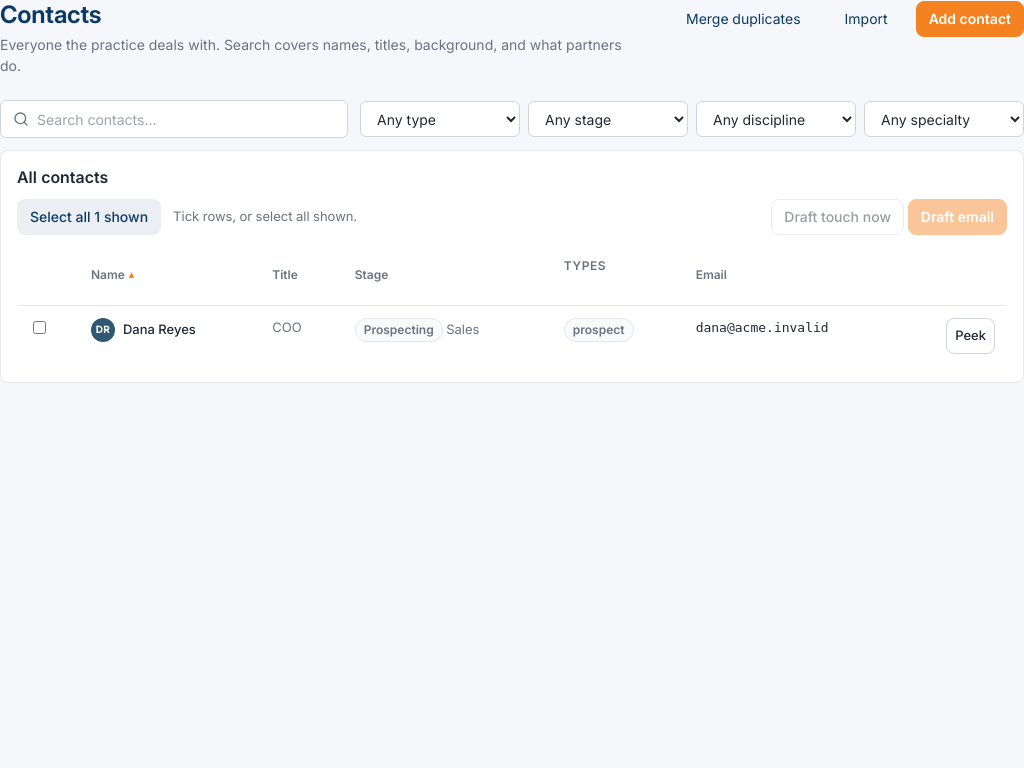
a row opens its record › leaves the checkbox and Peek doing what they did
The width and height of the screenshot is (1024, 768).
Click the checkbox named "Select Dana Reyes" at [40, 327], box [33,321,46,334]
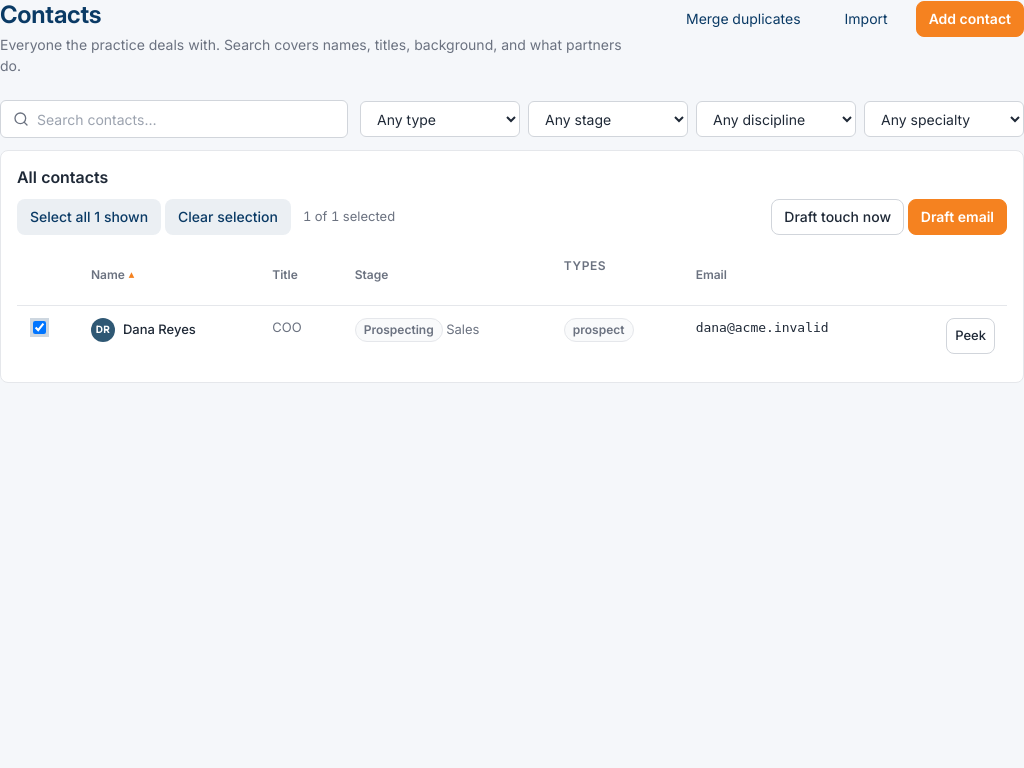
Now the checkbox named "Select Dana Reyes" is checked, box [33,321,46,334]
Click the button with aria-label "Peek at Dana Reyes" at [971, 336], box [946,318,995,354]
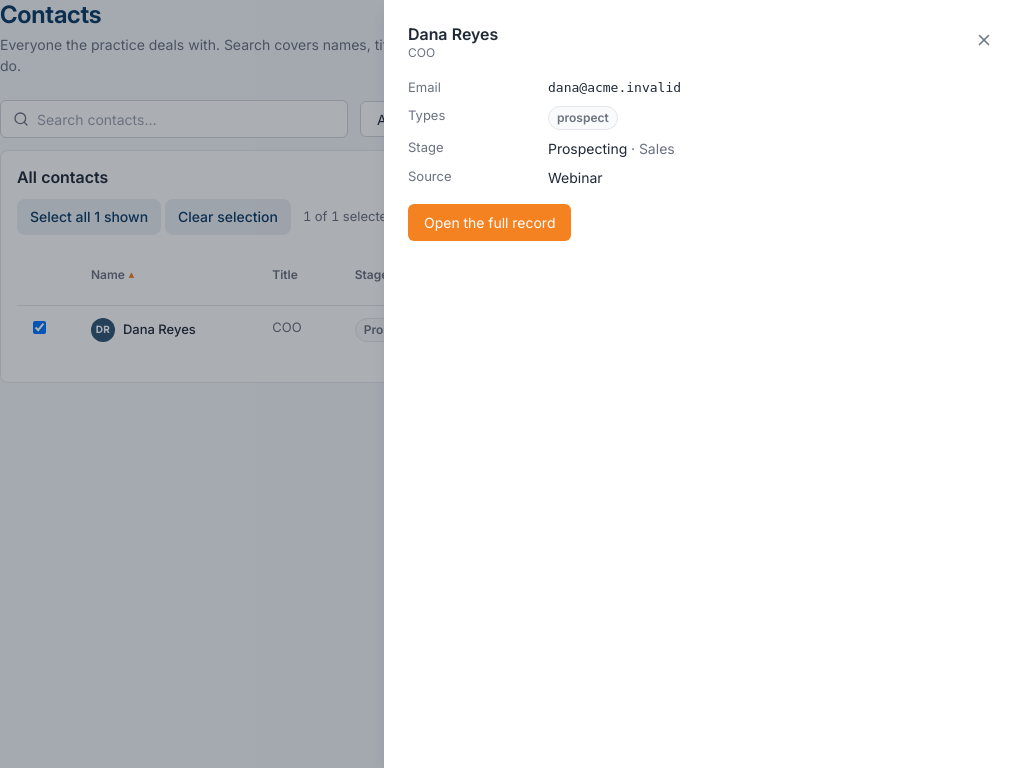
Now the dialog named "Contact" is shown
